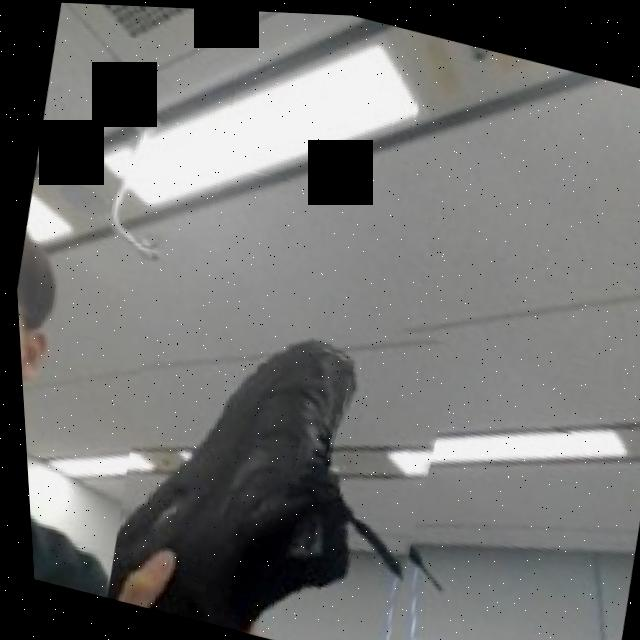shoe: (83, 250, 471, 640)
